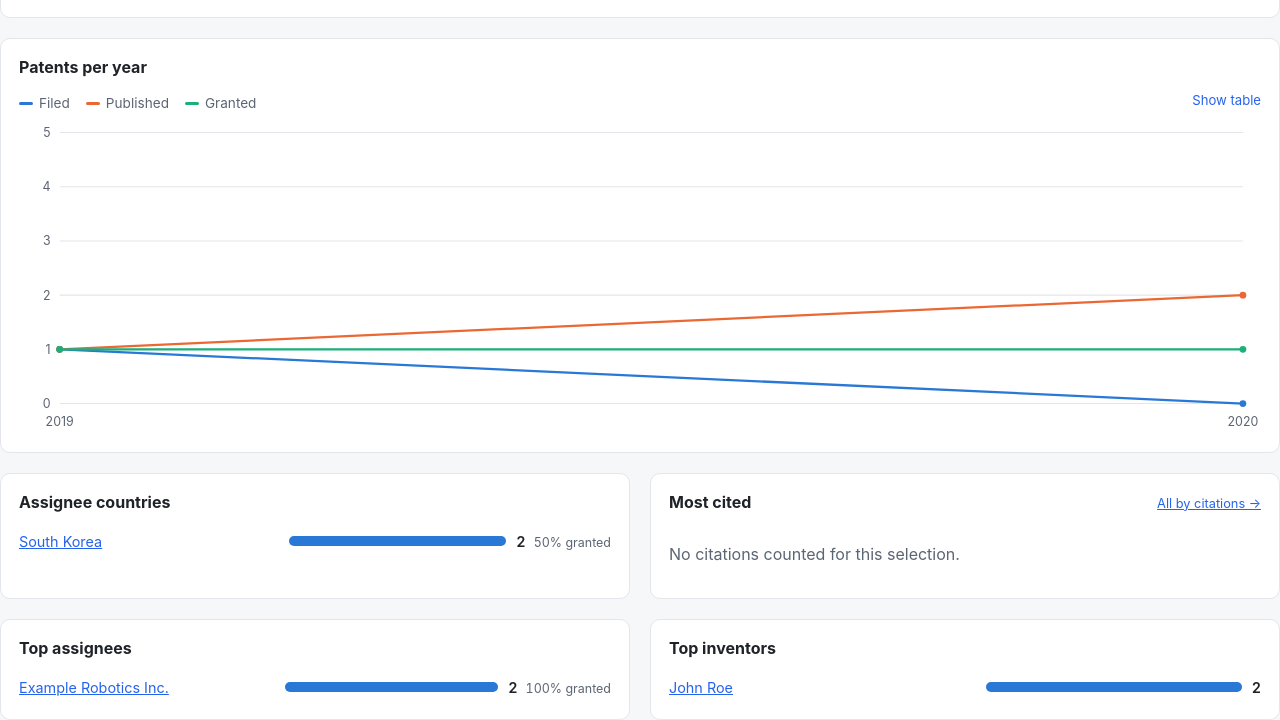
Test: Dashboard › ranks the assignee countries and narrows the dashboard to one
(page scrolled)
Click the link "South Korea" at [61, 541], box x1=19 y1=533 x2=102 y2=550
(page scrolled)
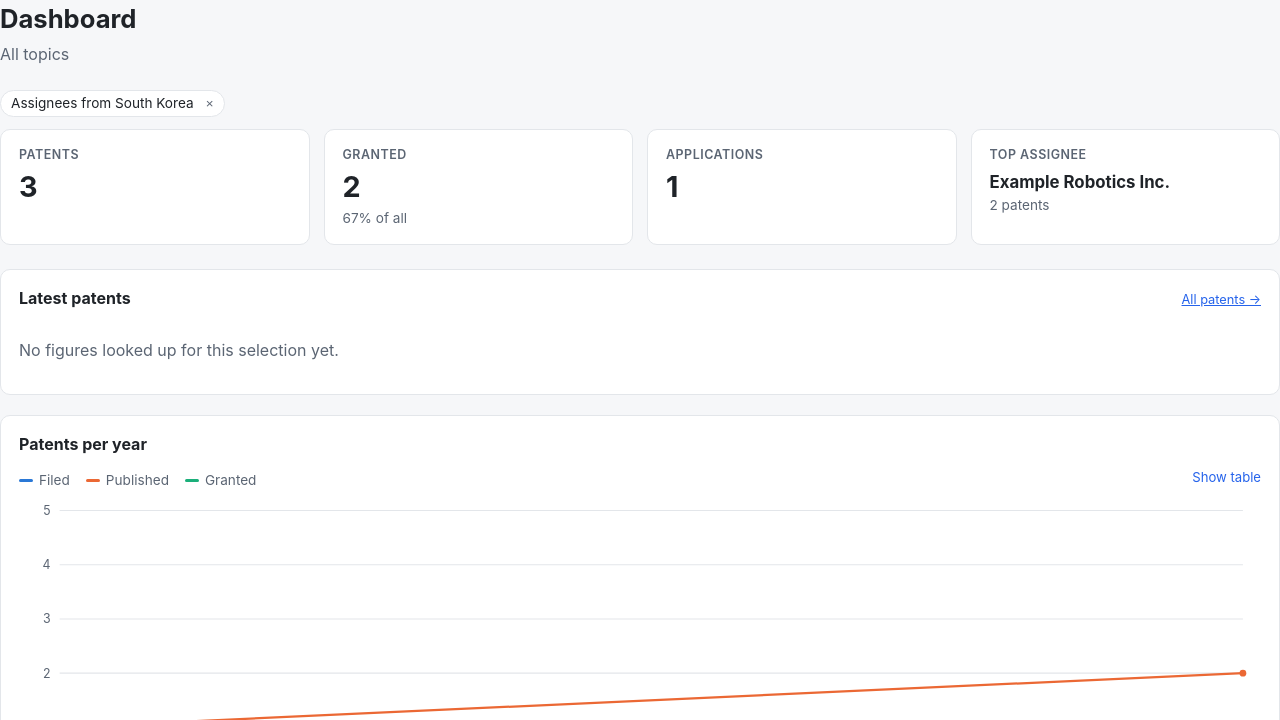
Now the text "Assignees from South Korea" is shown, box x1=0 y1=90 x2=225 y2=117
